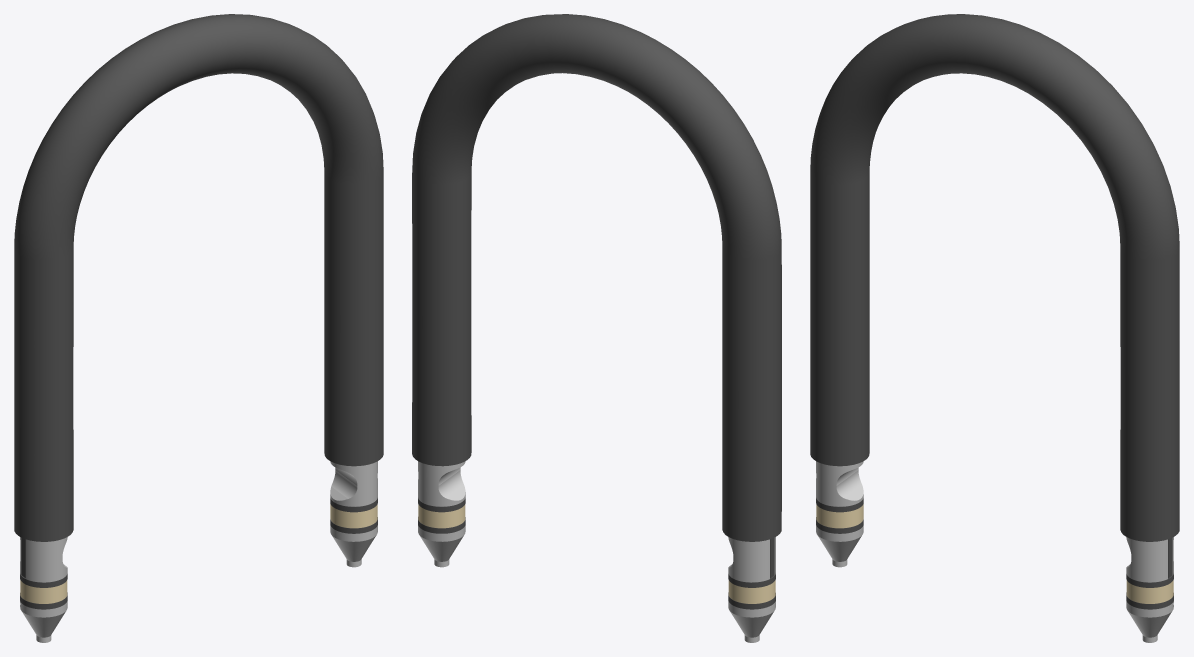
The model's file is arcAsm.glb.
The picture shows the model from 3 angles, left to right: view 1: azimuth 30°, elevation 25°; view 2: azimuth 150°, elevation 25°; view 3: azimuth 330°, elevation 25°; orthographic projection.
Visible parts, largest first — view 1: arcPlasticCover, Body2, arcMother2, arcMother1, arcMotherHolder1, arcMotherHolder2; view 2: arcPlasticCover, Body2, arcMother2, arcMother1, arcMotherHolder1, arcMotherHolder2; view 3: arcPlasticCover, Body2, arcMother1, arcMother2, arcMotherHolder2, arcMotherHolder1.
Boxes of the visible parts, box(x1,y1,x2,y2) form: arcPlasticCover: box(14, 14, 383, 541); Body2: box(20, 461, 377, 642); arcMother2: box(330, 504, 377, 528); arcMother1: box(20, 580, 67, 603); arcMotherHolder1: box(20, 573, 67, 609); arcMotherHolder2: box(330, 497, 377, 533); arcPlasticCover: box(412, 14, 781, 541); Body2: box(418, 461, 775, 642); arcMother2: box(418, 504, 465, 528); arcMother1: box(728, 580, 775, 603); arcMotherHolder1: box(728, 573, 775, 609); arcMotherHolder2: box(418, 497, 465, 533); arcPlasticCover: box(810, 14, 1179, 541); Body2: box(816, 461, 1173, 642); arcMother1: box(816, 504, 863, 528); arcMother2: box(1126, 580, 1173, 603); arcMotherHolder2: box(1126, 573, 1173, 609); arcMotherHolder1: box(816, 497, 863, 533).
Size of the model in its own units: 0.1405 by 0.2156 by 0.02.
